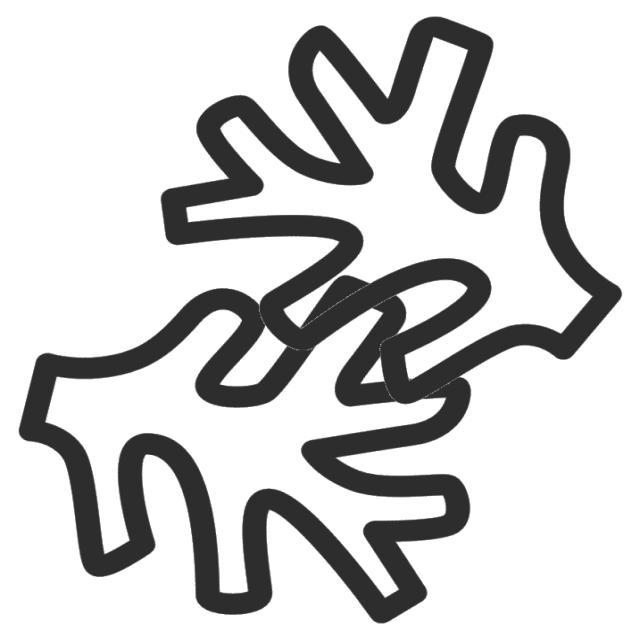coral: (150, 8, 628, 413), (6, 265, 503, 633)
